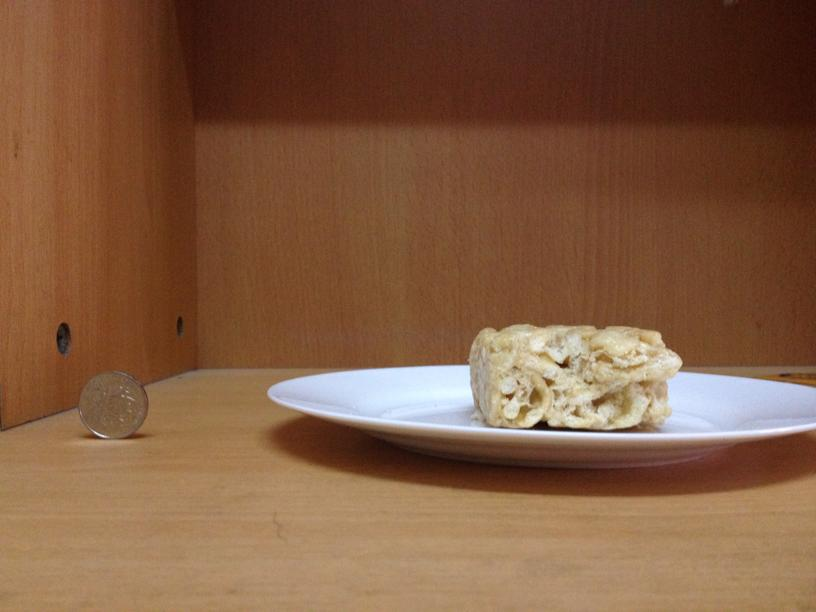coin: (76, 369, 149, 438)
sachima: (466, 320, 672, 429)
